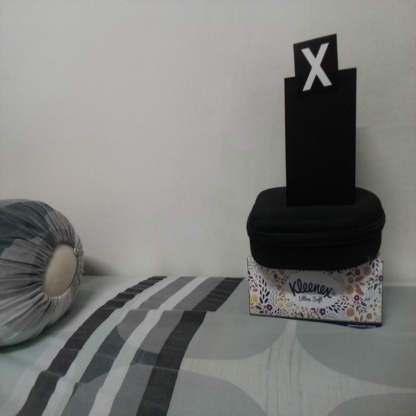id_13: (294, 41, 338, 98)
